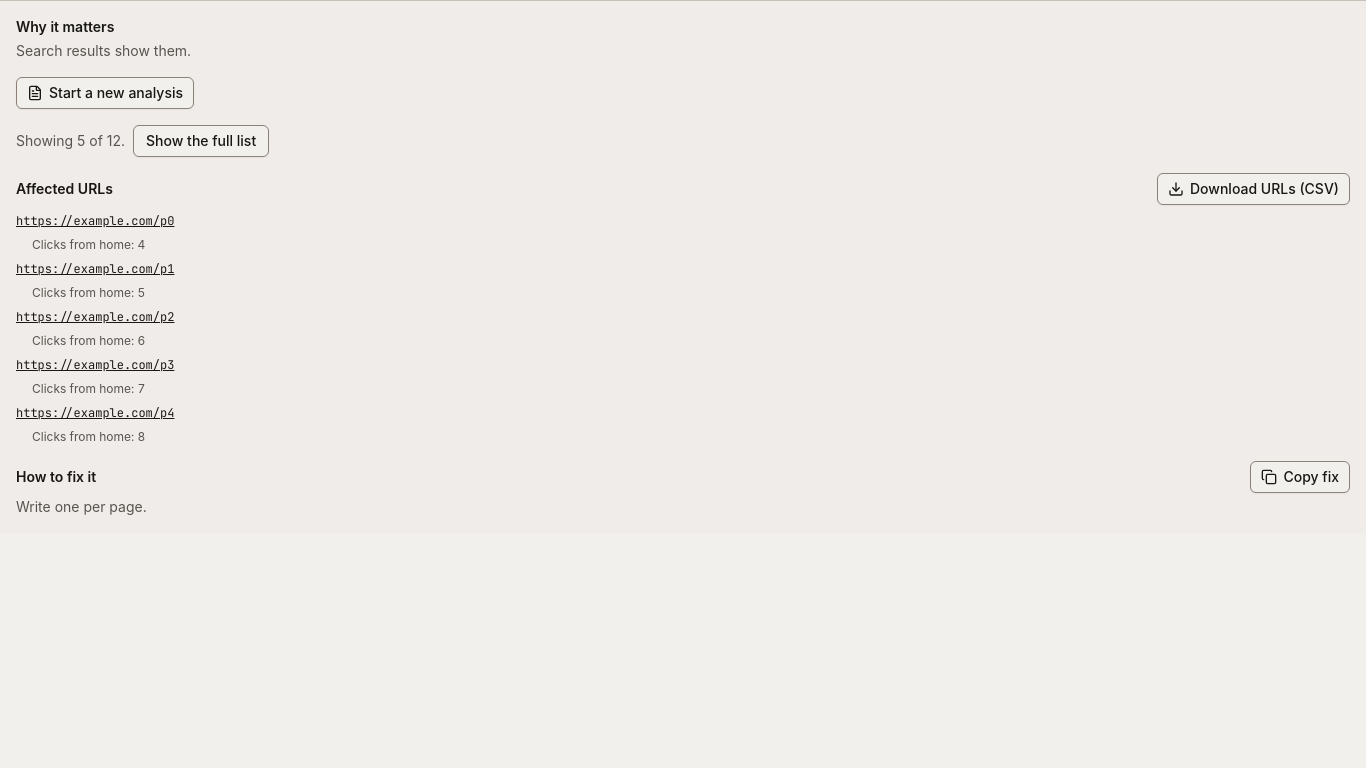
deep crawl evidence across the preview and the full lists › shows the previewed rows first, then every row once the full lists load; the cut note waits for them
Check: the number of elements with test id "report-evidence-facts" is 5, box [32,237,145,252]; [32,285,145,300]; [32,333,145,348]; [32,381,145,396]; [32,429,145,444]
What coordinates should you click on to do the following:
click the button with test id "report-issue-load-all"
I would click on:
 (201, 141)
Its box is [133,125,269,157].
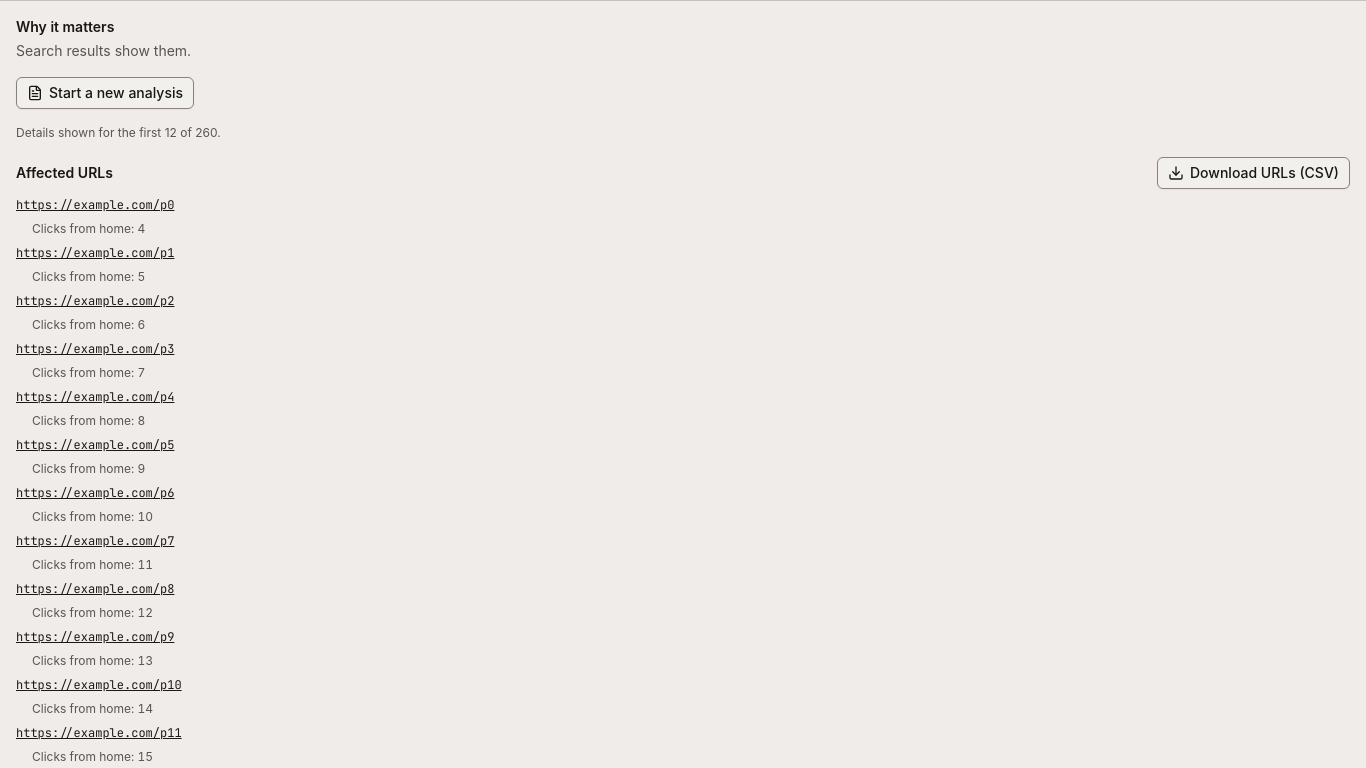
Check: the number of elements with test id "report-evidence-facts" is 12
Check: the text "Clicks from home: 15" is shown, box [32,749,153,765]
Check: the text with test id "report-evidence-cut" reads "Details shown for the first 12 of 260.", box [16,125,221,140]
